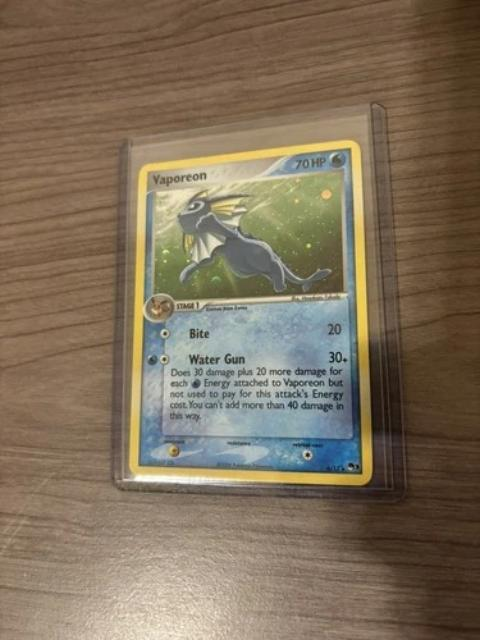Card: (124, 133, 374, 485)
Name: (145, 164, 209, 189)
